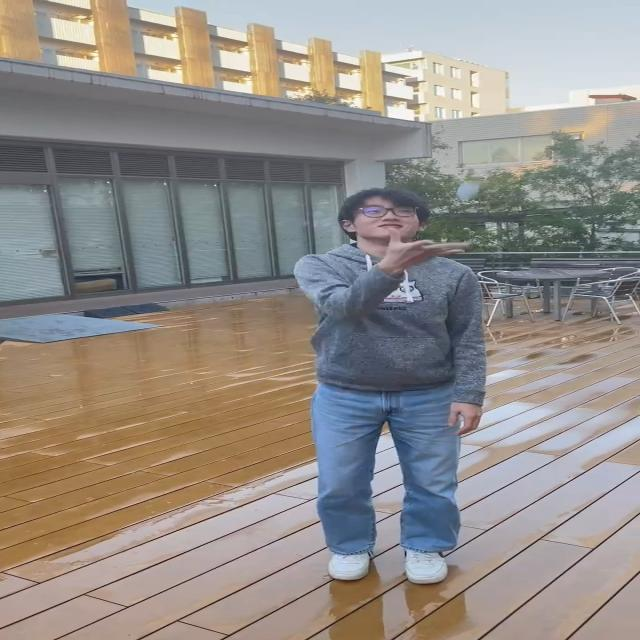paper: (457, 183, 479, 200)
